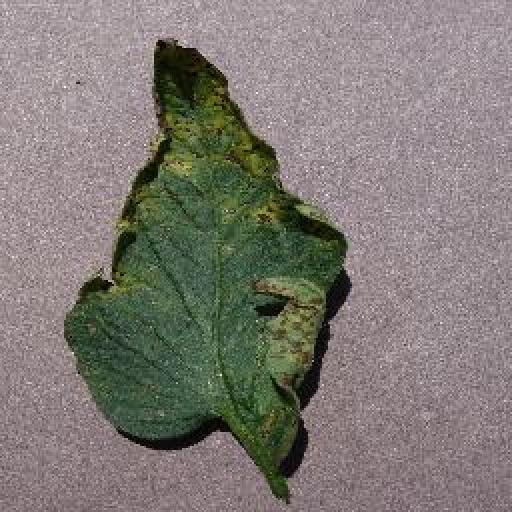Septoria: (64, 34, 351, 498)
